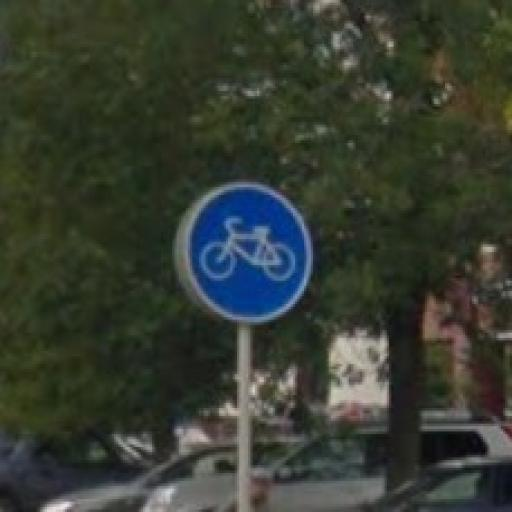traffic_sign: (184, 180, 314, 326)
